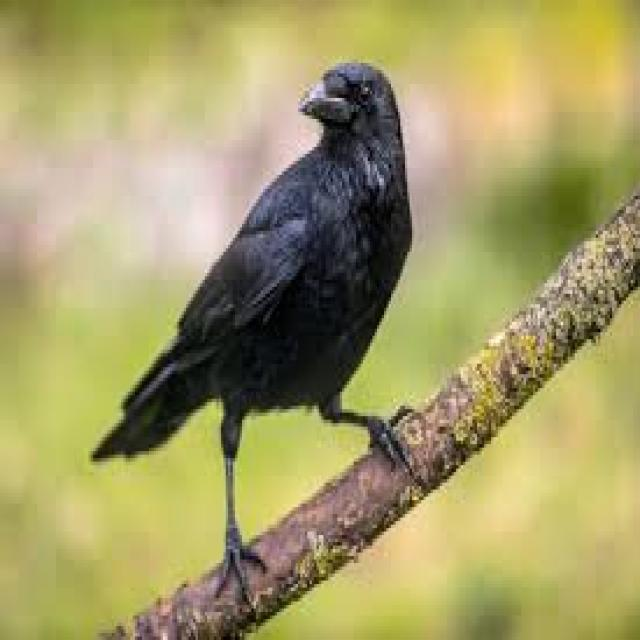crow: (238, 66, 452, 280)
